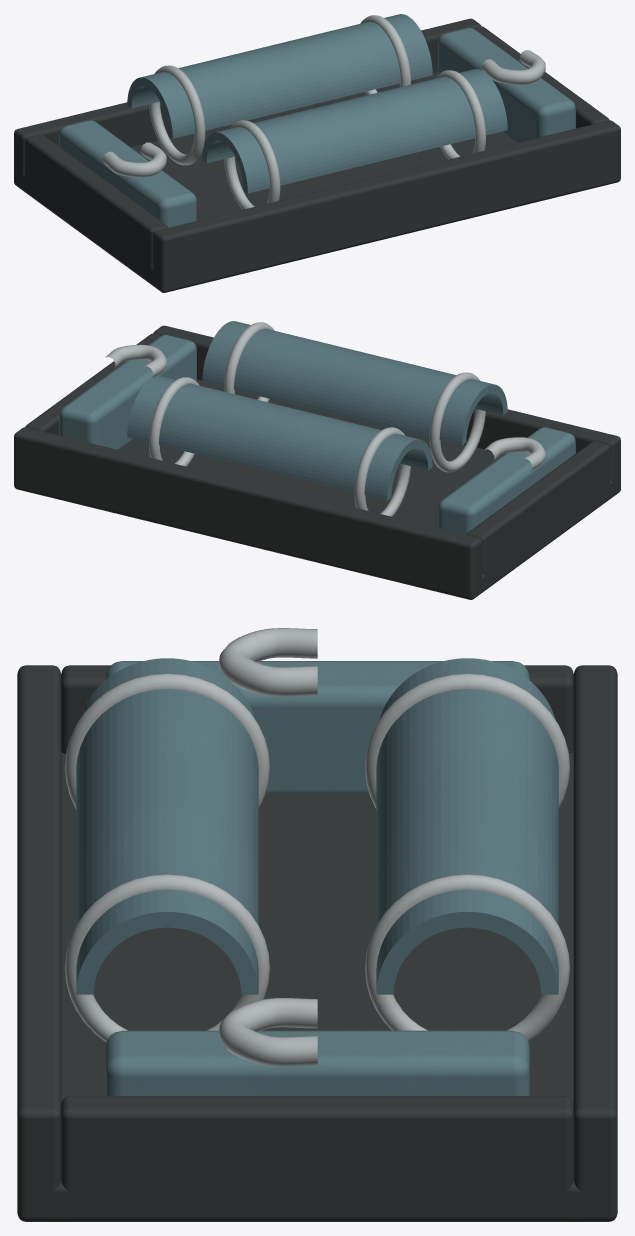
File: gorgehold-survivor-gallery-and-operations-cable-splice-89dd48e2__32864.glb
The picture shows the model from 3 angles, top to bottom: view 1: azimuth 30°, elevation 25°; view 2: azimuth 150°, elevation 25°; view 3: azimuth 270°, elevation 25°; orthographic projection. The views are drawn at different scales.
Visible parts, largest first — view 1: cable-splice-weatherproof-sleeve-kit; view 2: cable-splice-weatherproof-sleeve-kit; view 3: cable-splice-weatherproof-sleeve-kit.
Boxes of the visible parts, x1,y1,x2,y2 form: cable-splice-weatherproof-sleeve-kit: [14, 14, 620, 292]; cable-splice-weatherproof-sleeve-kit: [14, 321, 620, 599]; cable-splice-weatherproof-sleeve-kit: [17, 628, 617, 1221].
Size of the model in its own units: 0.85 by 0.199 by 0.4801.
Materials: 3 (2 with a texture image).
